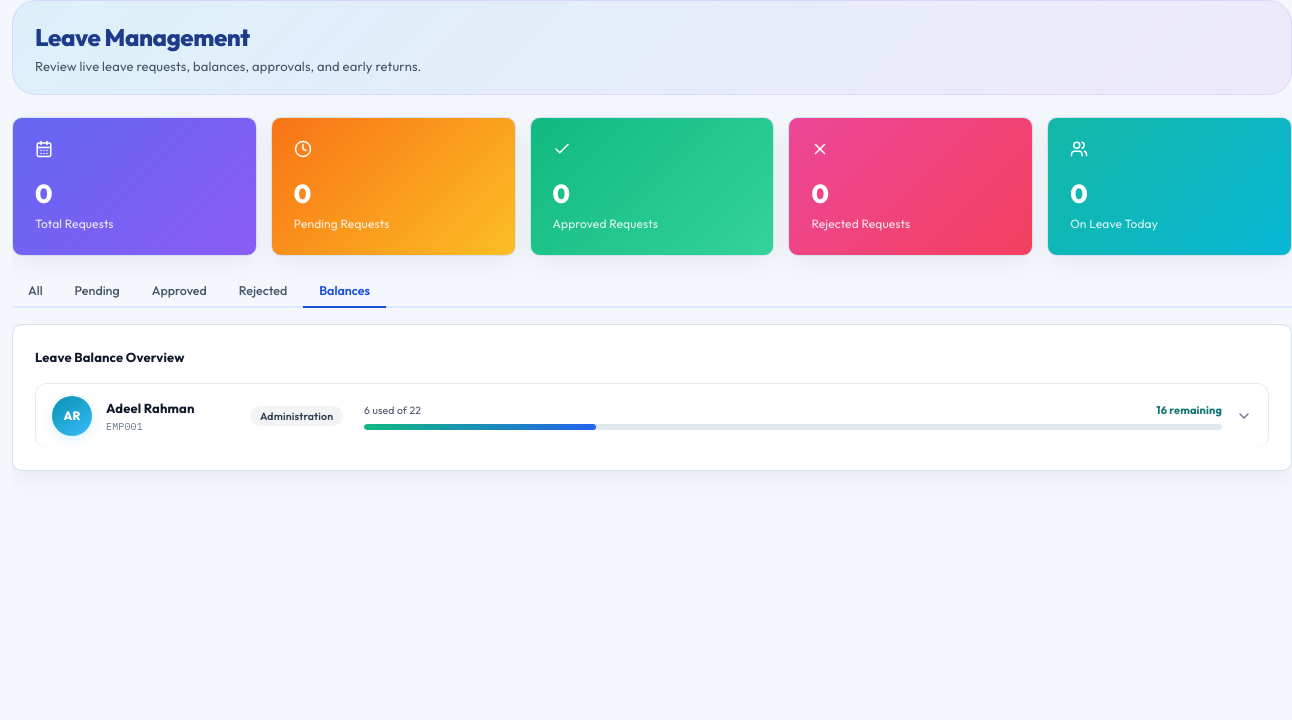
Test case: Leave › shows one compact balance row per employee and expands leave-type details
The image size is (1292, 720).
Check: the text "EMP001" is shown, box [106,420,143,433]
Check: the text "Administration" is shown, box [250,406,343,426]
Step 1. Click the text "Adeel Rahman" → coordinates (150, 408), box [106,400,194,416]
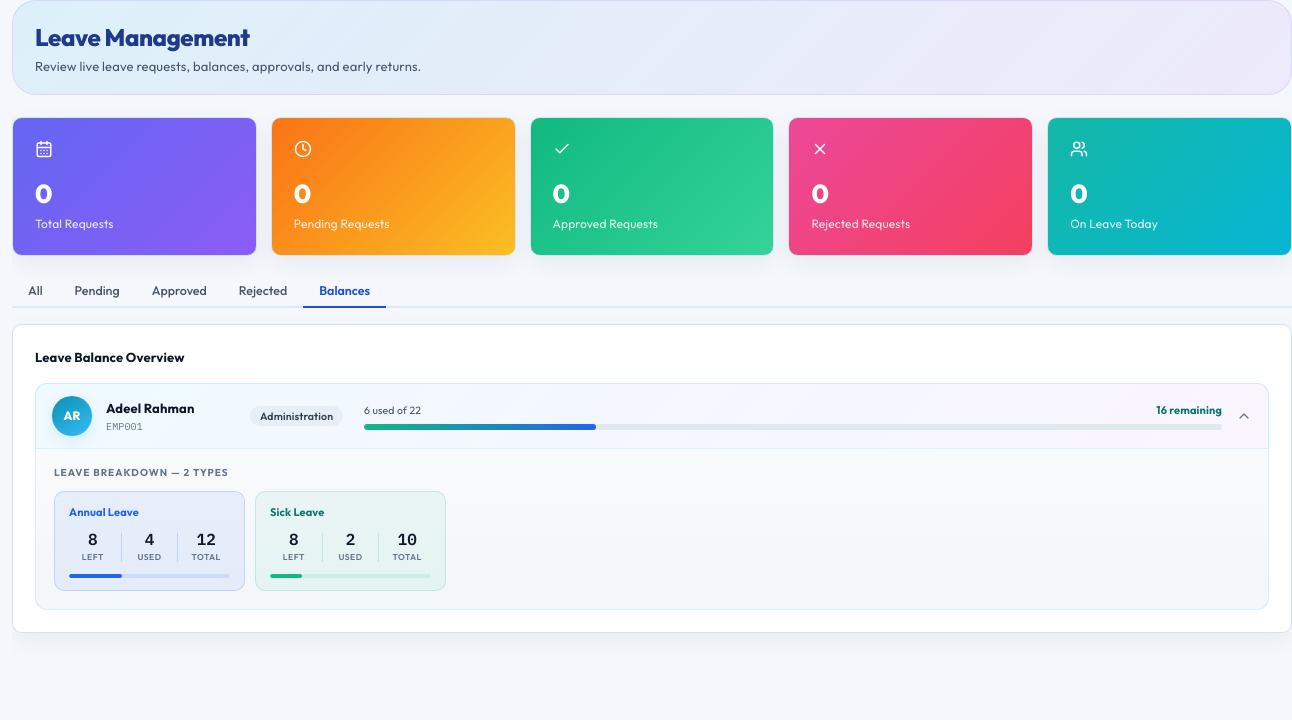
Check: the text "Annual Leave" is shown, box [69,505,139,519]
Check: the text "Sick Leave" is shown, box [270,505,324,519]
